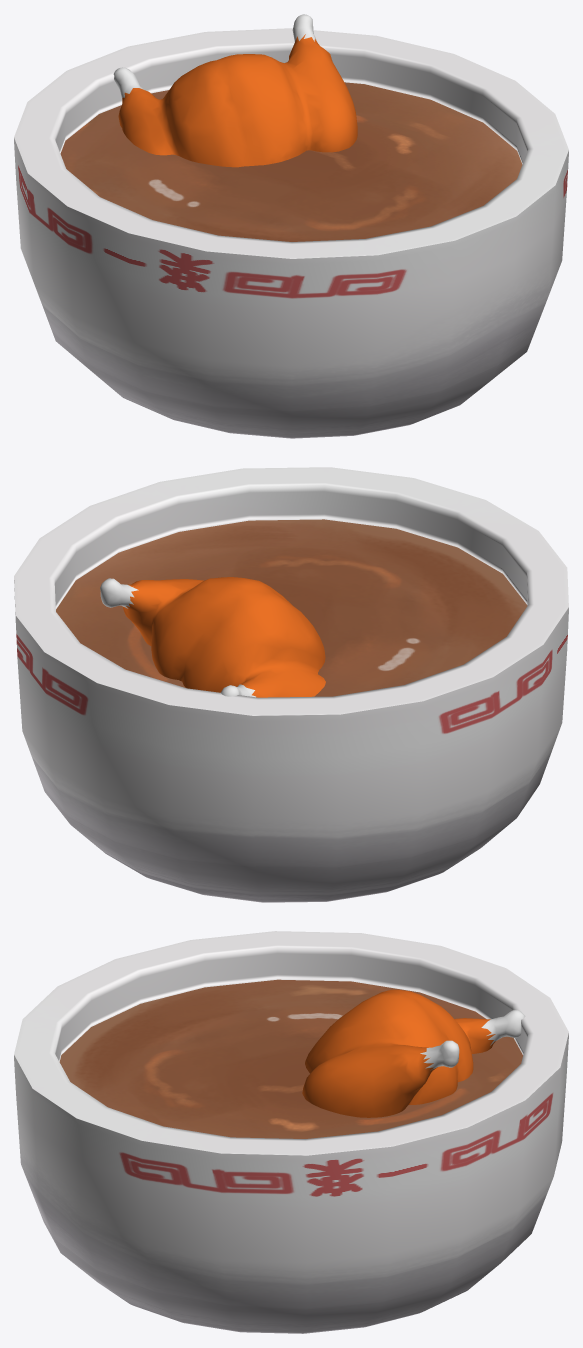
The model's file is RamenSoloPollo.fbx.
3 renders of one model, top to bottom at view 1: azimuth 30°, elevation 25°; view 2: azimuth 150°, elevation 25°; view 3: azimuth 270°, elevation 25°, orthographic. The views are drawn at different scales.
Visible parts, largest first — view 1: Chicken; view 2: Chicken; view 3: Chicken.
Part boxes in pixels (x1=…): Chicken: x1=14, y1=14, x2=568, y2=438; Chicken: x1=14, y1=467, x2=568, y2=902; Chicken: x1=14, y1=931, x2=568, y2=1333.
Size of the model in its own units: 41.58 by 22.11 by 43.46.
